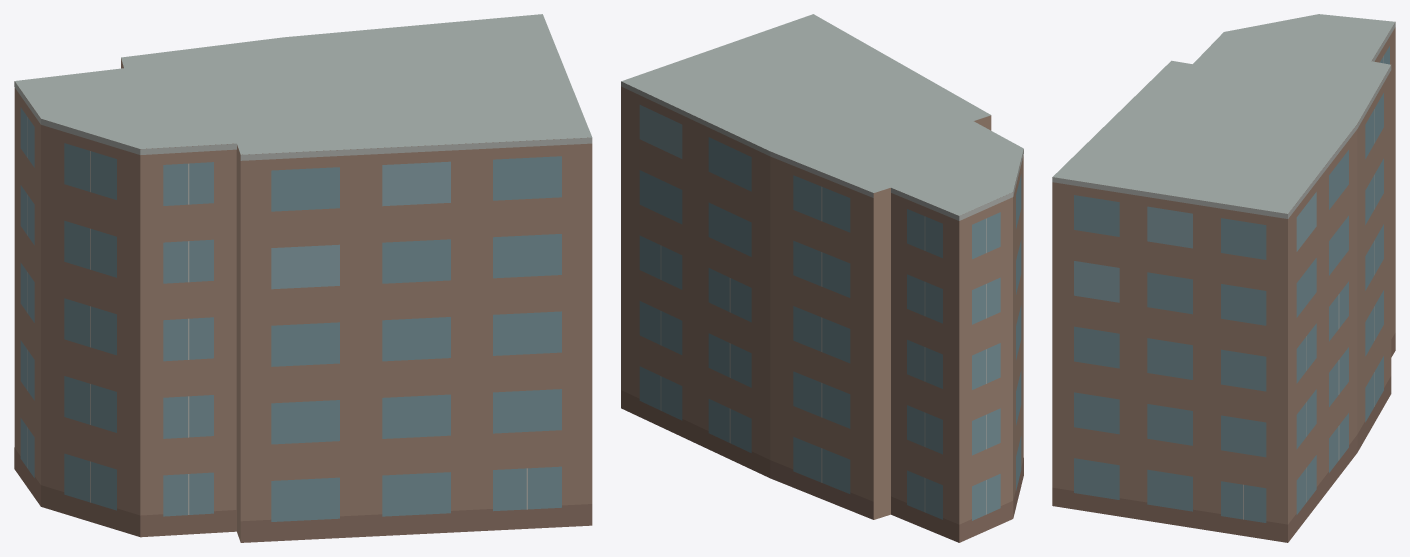
Rendered from survey-upis-32720304.glb.
3 views of the same model, side by side, from view 1: azimuth 30°, elevation 25°; view 2: azimuth 150°, elevation 25°; view 3: azimuth 270°, elevation 25° (orthographic). The views are drawn at different scales.
Visible parts, largest first — view 1: survey-upis-32720304.tmp; view 2: survey-upis-32720304.tmp; view 3: survey-upis-32720304.tmp.
Part boxes in pixels (bbox=[...]): survey-upis-32720304.tmp: bbox=[14, 14, 592, 542]; survey-upis-32720304.tmp: bbox=[621, 14, 1023, 542]; survey-upis-32720304.tmp: bbox=[1052, 14, 1395, 542].
Size of the model in its own units: 20.42 by 15.65 by 14.8.
